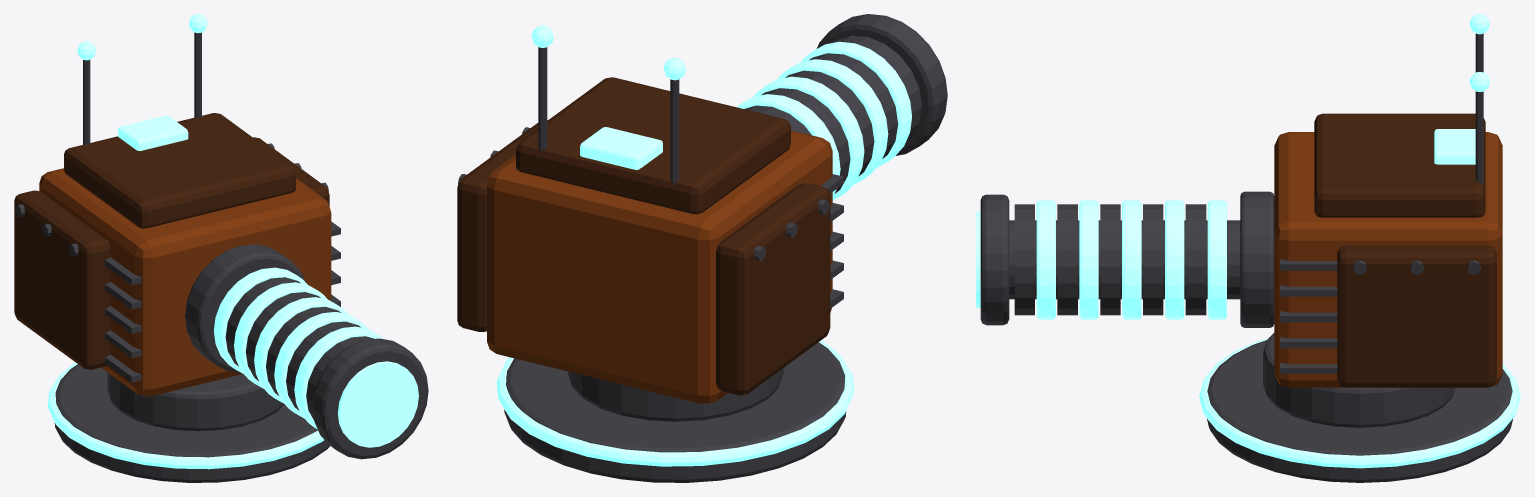
The model's file is zw_laserlourd.glb.
3 renders of one model, left to right at view 1: azimuth 30°, elevation 25°; view 2: azimuth 150°, elevation 25°; view 3: azimuth 270°, elevation 25°, orthographic. The views are drawn at different scales.
Visible parts, largest first — view 1: zl_steel, zl_rust_dark, zl_rust, zl_glow, zlens, zring_2, zring_0, zring_1, zring_3, zring_4; view 2: zl_rust, zl_rust_dark, zl_steel, zl_glow, zring_3, zring_4, zring_2, zring_1; view 3: zl_steel, zl_rust_dark, zl_rust, zl_glow, zring_3, zring_0, zring_1, zring_2, zring_4.
Part boxes in pixels (x1=…): zl_steel: x1=15, y1=32, x2=428, y2=482; zl_rust_dark: x1=14, y1=113, x2=329, y2=369; zl_rust: x1=39, y1=168, x2=331, y2=396; zl_glow: x1=48, y1=14, x2=323, y2=469; zlens: x1=337, y1=361, x2=418, y2=447; zring_2: x1=254, y1=297, x2=347, y2=403; zring_0: x1=214, y1=267, x2=307, y2=373; zring_1: x1=234, y1=282, x2=327, y2=388; zring_3: x1=274, y1=312, x2=367, y2=417; zring_4: x1=294, y1=326, x2=383, y2=429; zl_rust: x1=487, y1=130, x2=832, y2=403; zl_rust_dark: x1=457, y1=77, x2=830, y2=395; zl_steel: x1=458, y1=14, x2=947, y2=482; zl_glow: x1=497, y1=25, x2=854, y2=466; zring_3: x1=777, y1=59, x2=888, y2=184; zring_4: x1=801, y1=41, x2=911, y2=167; zring_2: x1=754, y1=76, x2=864, y2=200; zring_1: x1=737, y1=94, x2=840, y2=197; zl_steel: x1=980, y1=33, x2=1512, y2=482; zl_rust_dark: x1=1314, y1=113, x2=1496, y2=387; zl_rust: x1=1274, y1=132, x2=1502, y2=387; zl_glow: x1=1199, y1=14, x2=1520, y2=468; zring_3: x1=1079, y1=200, x2=1098, y2=319; zring_0: x1=1207, y1=200, x2=1226, y2=319; zring_1: x1=1165, y1=200, x2=1184, y2=319; zring_2: x1=1122, y1=200, x2=1141, y2=319; zring_4: x1=1036, y1=200, x2=1055, y2=319.
Bounding box in the file's own units: 0.564 × 0.728 × 0.955.
